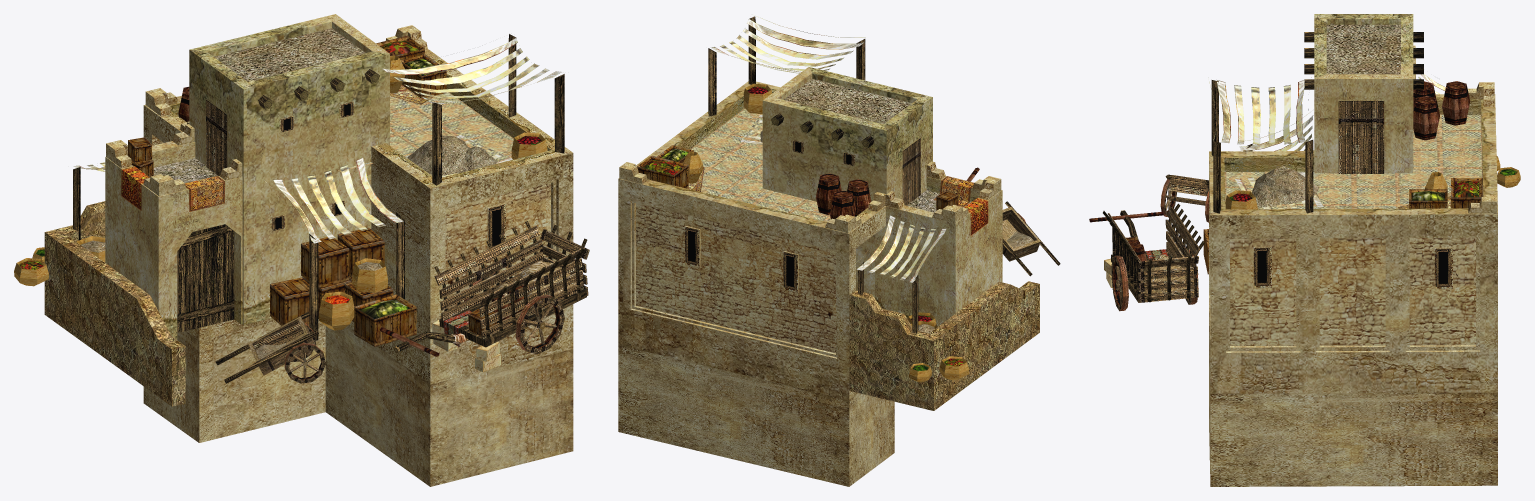
The model's file is pers_farmstead.dae.
3 views of the same model, side by side, from view 1: azimuth 30°, elevation 25°; view 2: azimuth 150°, elevation 25°; view 3: azimuth 270°, elevation 25° (orthographic). The views are drawn at different scales.
Visible parts, largest first — view 1: pers_farmstead_a; view 2: pers_farmstead_a; view 3: pers_farmstead_a.
Part boxes in pixels (box(x1,y1,x2,y2)): pers_farmstead_a: box(14, 14, 589, 486); pers_farmstead_a: box(618, 14, 1060, 486); pers_farmstead_a: box(1089, 14, 1520, 486).
Size of the model in its own units: 19.98 by 20.19 by 18.18.
